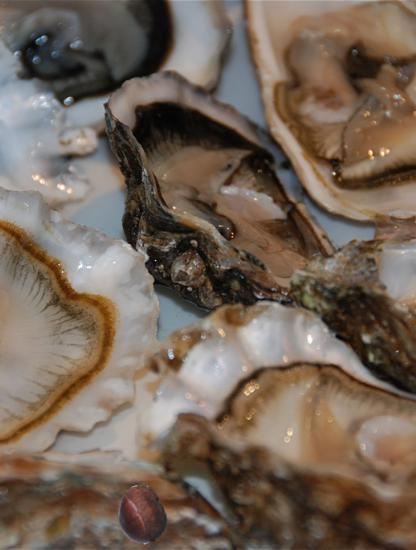Chestnut: (112, 485, 171, 544)
